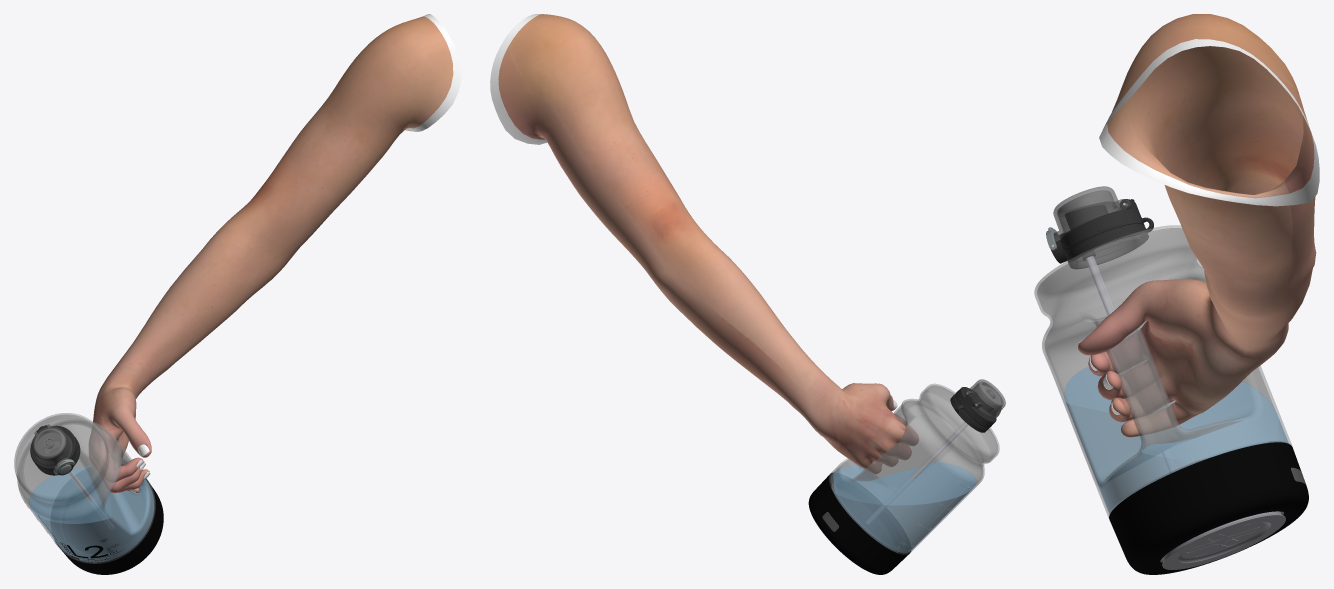
The model's file is bottle-with-hand-new.glb.
3 renders of one model, left to right at view 1: azimuth 30°, elevation 25°; view 2: azimuth 150°, elevation 25°; view 3: azimuth 270°, elevation 25°, orthographic. The views are drawn at different scales.
Parts seen in each view (by area): view 1: Genesis9.Shape, body, water, glossy base, glossy lid, hard plastic, led, cushion; view 2: Genesis9.Shape, body, water, glossy base, hard plastic, glossy lid; view 3: Genesis9.Shape, body, glossy base, water, hard plastic, silicon base, glossy lid, cushion, straw, led.
Part boxes in pixels (x1,y1,x2,y2): Genesis9.Shape: (89,14,461,493); body: (14,413,155,563); water: (29,466,153,562); glossy base: (38,479,163,574); glossy lid: (31,424,72,472); hard plastic: (30,425,80,475); led: (93,529,159,574); cushion: (34,429,65,458); Genesis9.Shape: (490,14,918,473); body: (829,383,999,554); water: (832,462,975,552); glossy base: (808,473,910,574); hard plastic: (950,387,996,432); glossy lid: (965,379,1005,418); Genesis9.Shape: (1078,14,1319,437); body: (1034,225,1291,517); glossy base: (1109,442,1308,574); water: (1064,367,1288,513); hard plastic: (1051,199,1153,268); silicon base: (1160,511,1285,569); glossy lid: (1053,186,1130,241); cushion: (1057,190,1114,217); straw: (1085,256,1176,472); led: (1113,517,1135,562).
Bounding box in the file's own units: 0.601 × 0.5988 × 0.1877.
16 materials, 1 textured.
